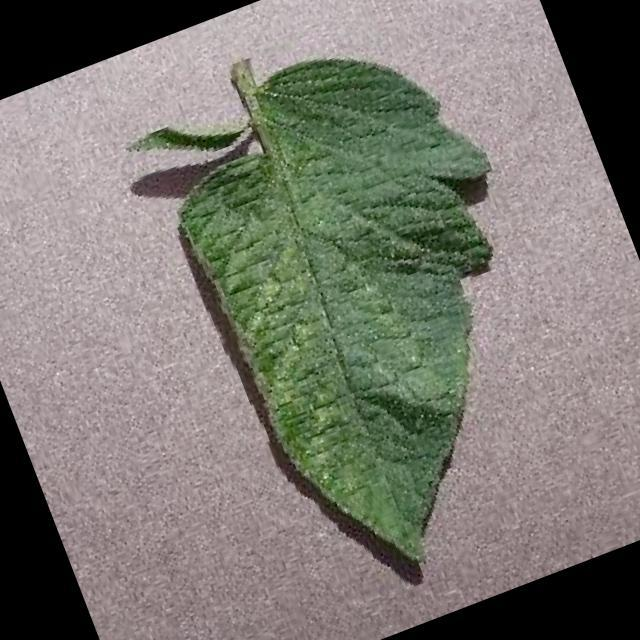Tomato spider mites leaf: (138, 12, 612, 600)
